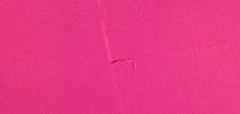snag: (109, 55, 139, 73)
